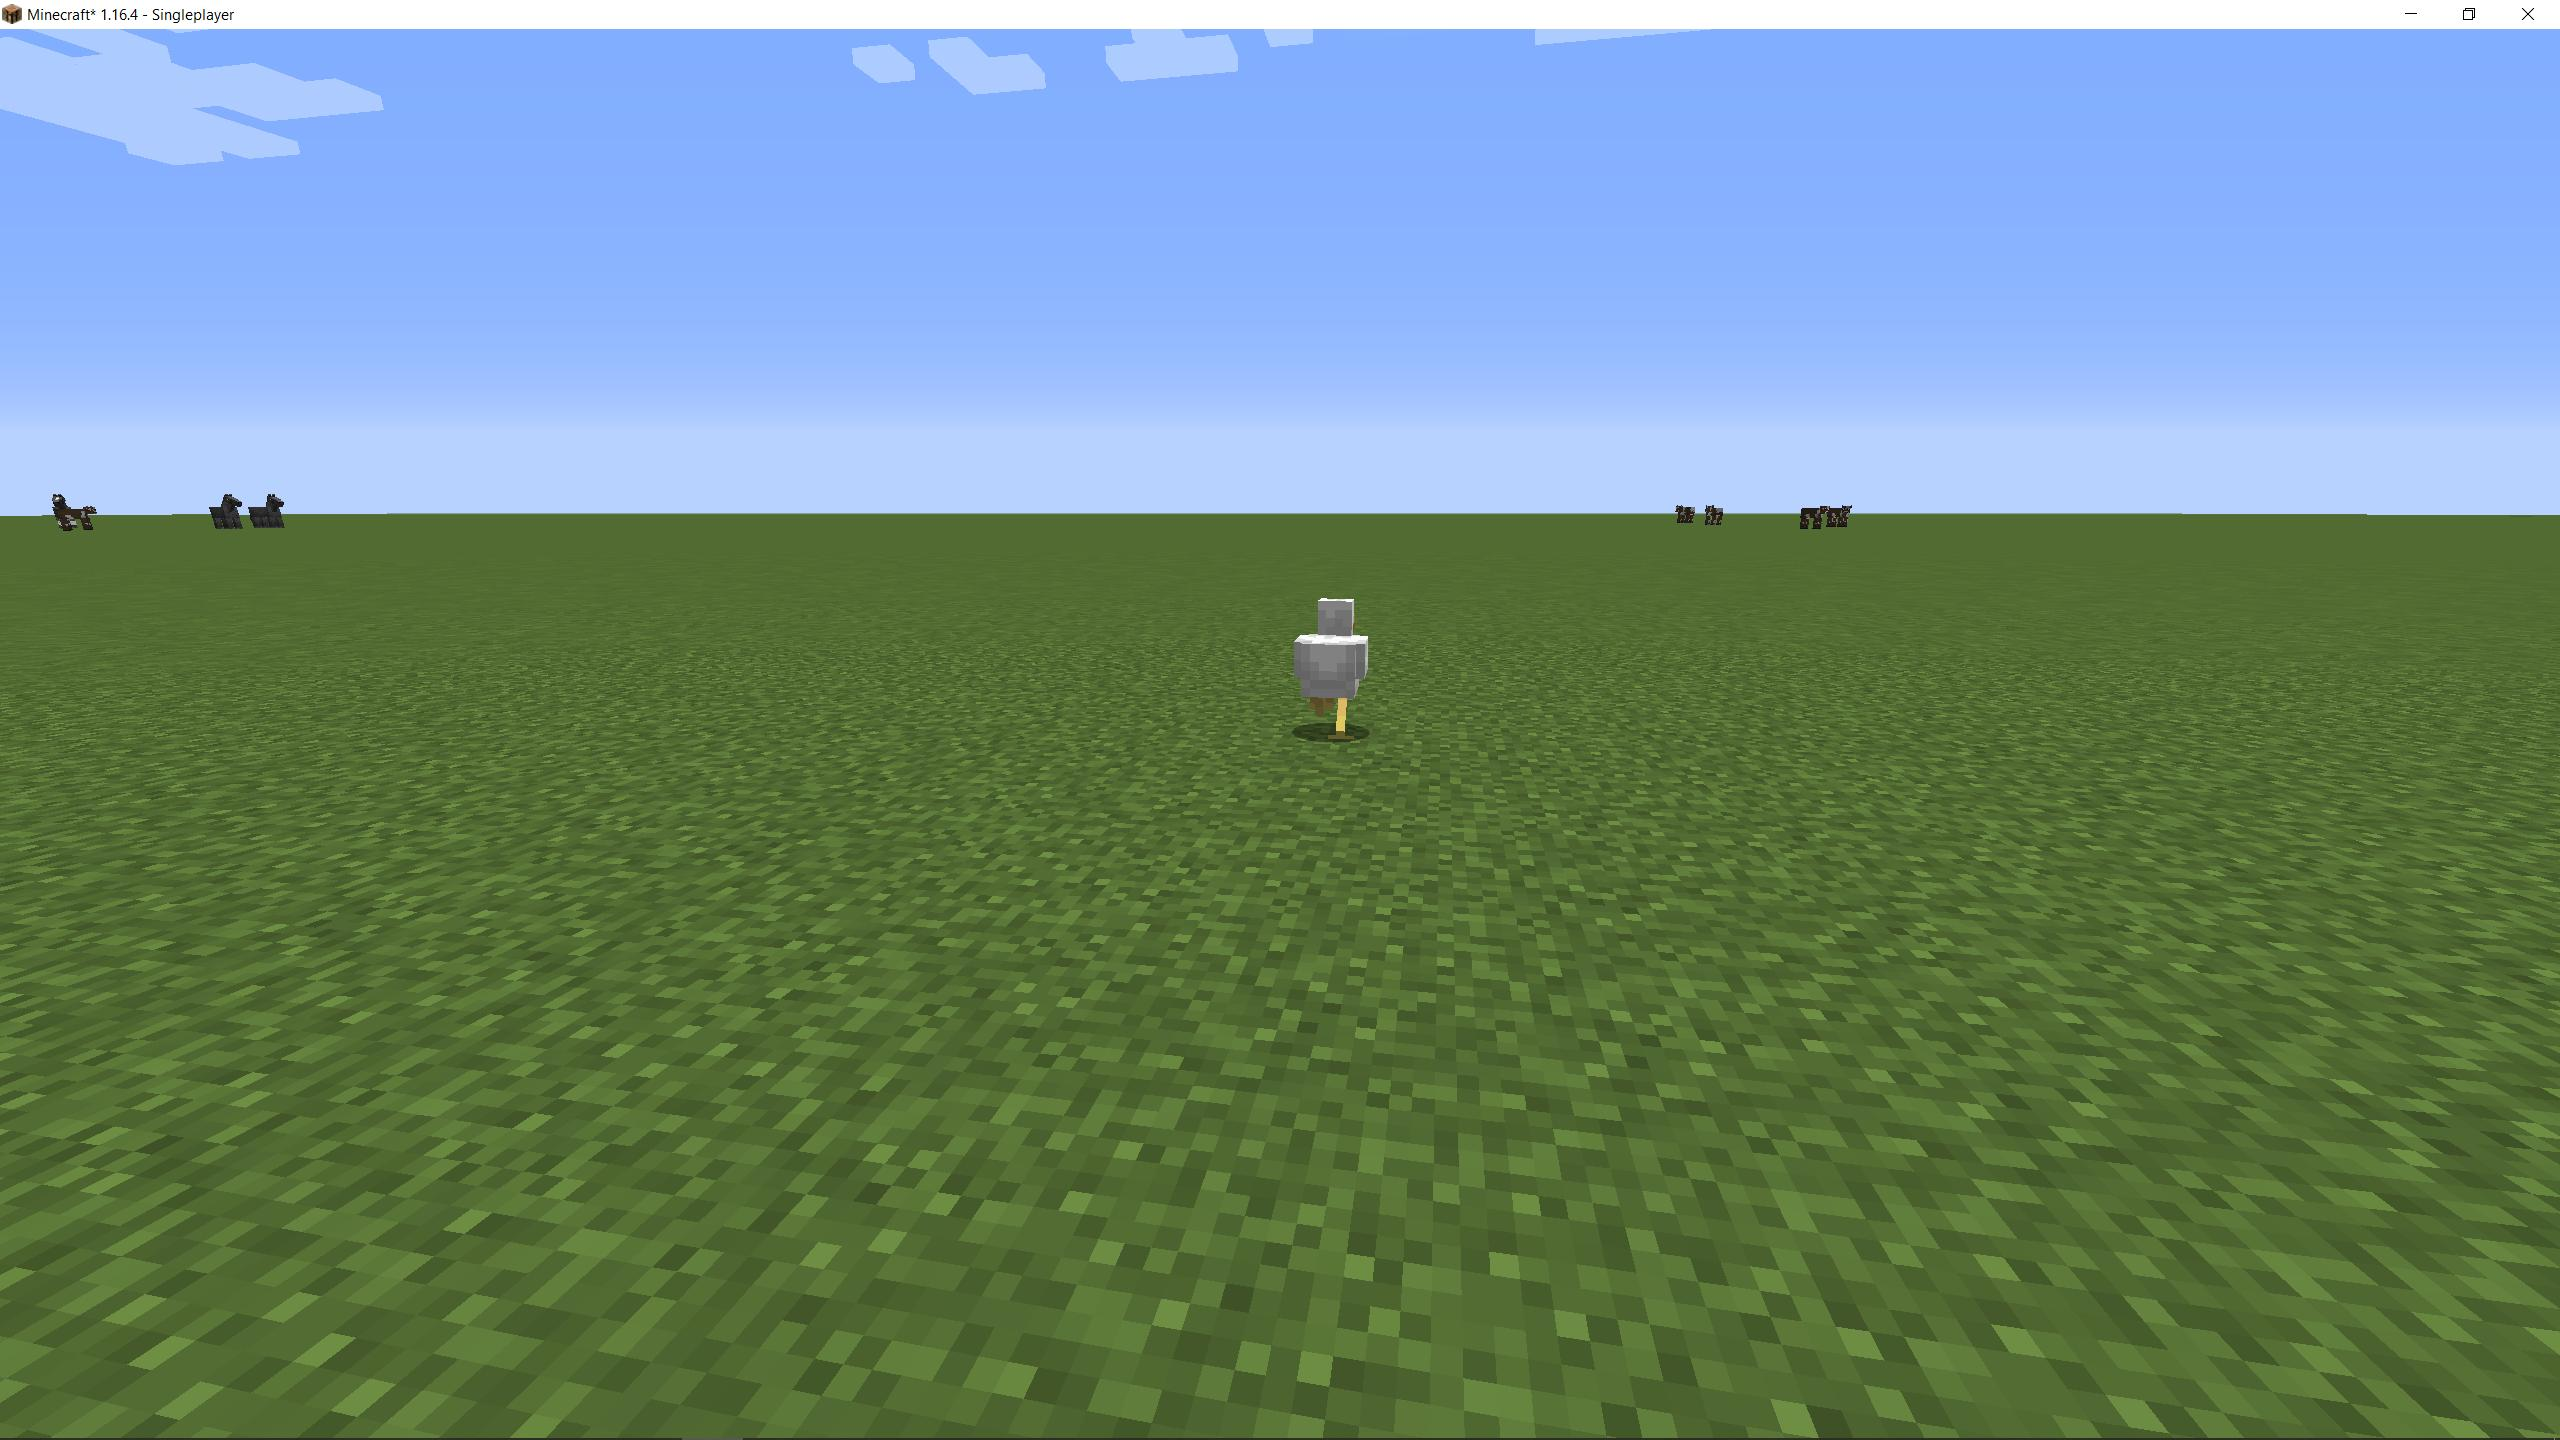chicken: (1291, 594, 1373, 740)
